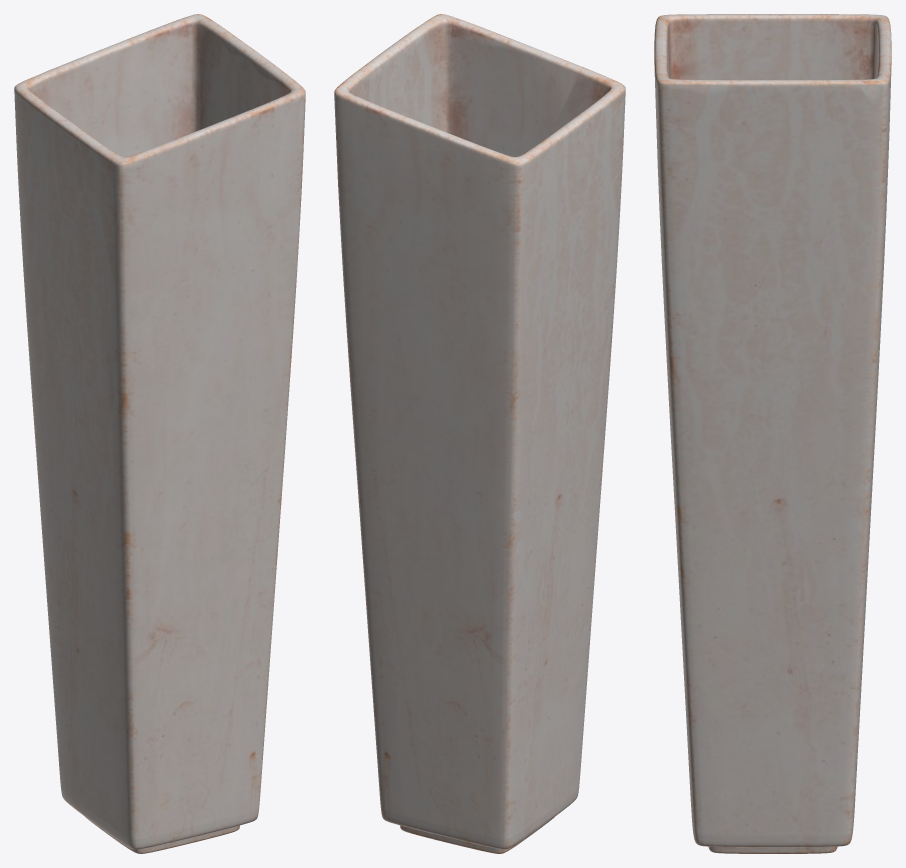
File: ceramic_vase_03.glb
The picture shows the model from 3 angles, left to right: view 1: azimuth 30°, elevation 25°; view 2: azimuth 150°, elevation 25°; view 3: azimuth 270°, elevation 25°; orthographic projection. The views are drawn at different scales.
Visible parts, largest first — view 1: ceramic_vase_03; view 2: ceramic_vase_03; view 3: ceramic_vase_03.
Boxes of the visible parts, box(x1,y1,x2,y2) form: ceramic_vase_03: box(14, 14, 305, 853); ceramic_vase_03: box(334, 14, 625, 853); ceramic_vase_03: box(654, 14, 891, 853).
Bounding box in the file's own units: 0.1122 × 0.4143 × 0.1122.
Materials: 1 (1 with a texture image).
